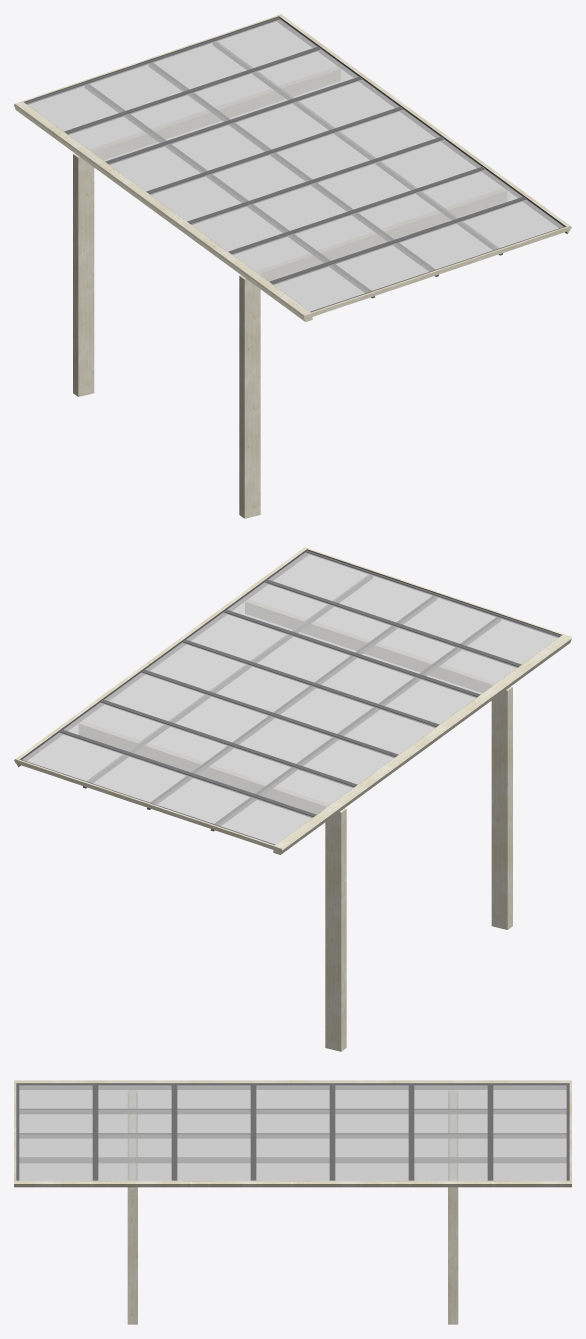
File: 2750-22_whitepine.fbx
The picture shows the model from 3 angles, top to bottom: view 1: azimuth 30°, elevation 25°; view 2: azimuth 150°, elevation 25°; view 3: azimuth 270°, elevation 25°; orthographic projection. The views are drawn at different scales.
Visible parts, largest first — view 1: 2750-22whitepine; view 2: 2750-22whitepine; view 3: 2750-22whitepine.
Boxes of the visible parts, x1,y1,x2,y2 form: 2750-22whitepine: [14, 14, 571, 518]; 2750-22whitepine: [14, 547, 571, 1051]; 2750-22whitepine: [14, 1080, 571, 1324].
Bounding box in the file's own units: 270 × 260 × 505.
Materials: 4 (2 with a texture image).
